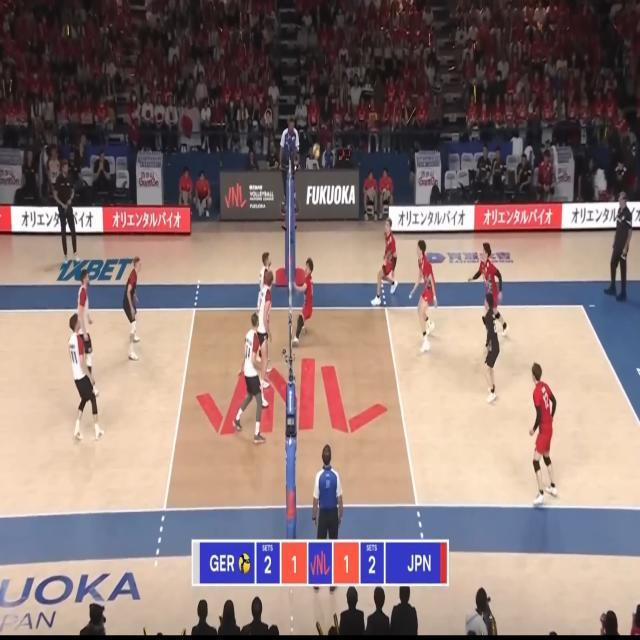ball: (313, 143, 320, 159)
